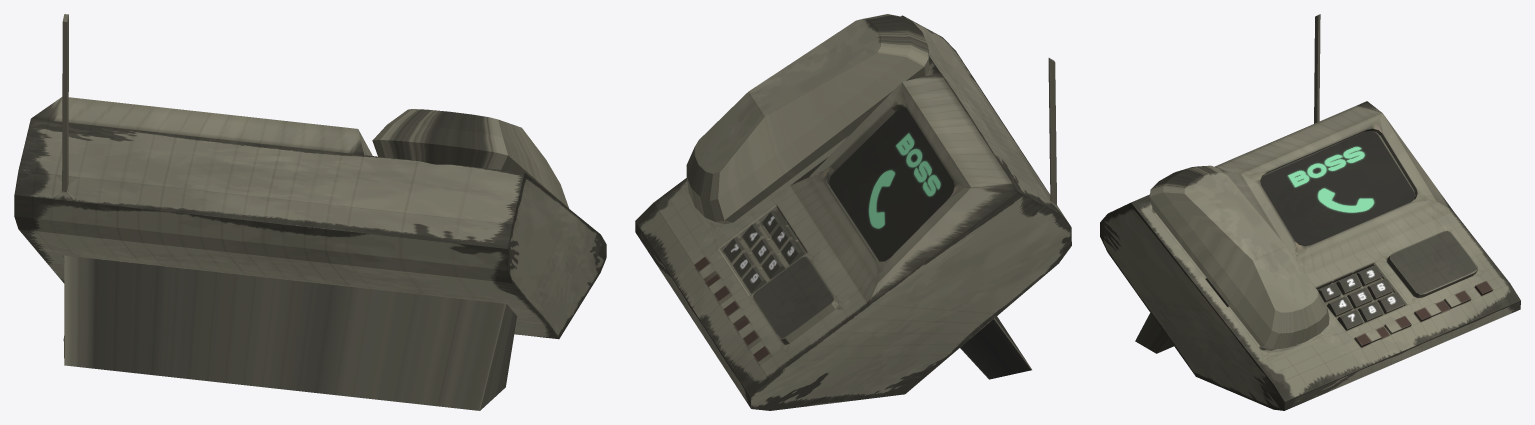
The model's file is phone2.gltf.
3 renders of one model, left to right at view 1: azimuth 30°, elevation 25°; view 2: azimuth 150°, elevation 25°; view 3: azimuth 270°, elevation 25°, orthographic. The views are drawn at different scales.
Visible parts, largest first — view 1: telephone, telephone-combine; view 2: telephone, telephone-combine; view 3: telephone, telephone-combine.
Boxes of the visible parts, x1,y1,x2,y2 form: telephone: (14, 14, 606, 410); telephone-combine: (372, 109, 568, 208); telephone: (635, 15, 1071, 410); telephone-combine: (686, 14, 929, 224); telephone: (1100, 14, 1520, 410); telephone-combine: (1149, 165, 1329, 349).
Bounding box in the file's own units: 7.34 × 4.58 × 7.33.
1 material, 1 textured.
